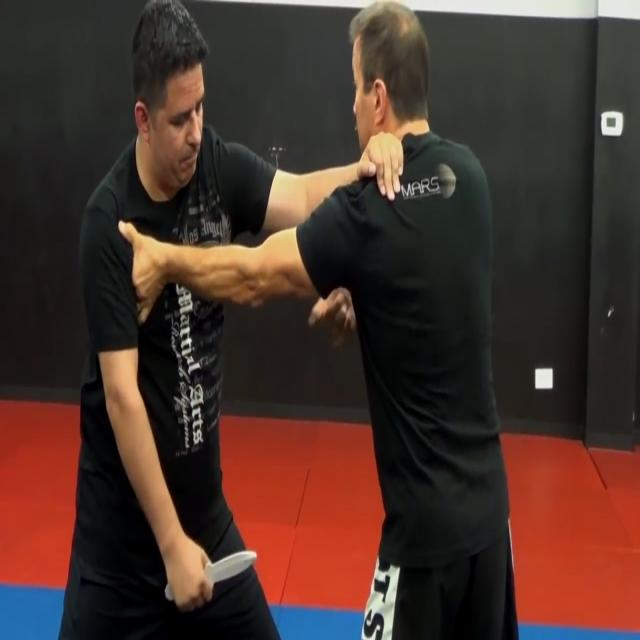knife: (206, 546, 258, 597)
